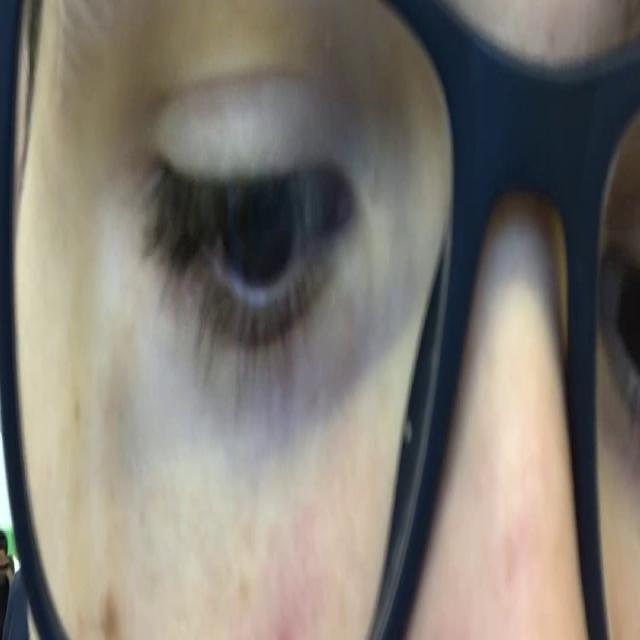eye: (134, 91, 385, 426)
gaze: (211, 152, 300, 316)
